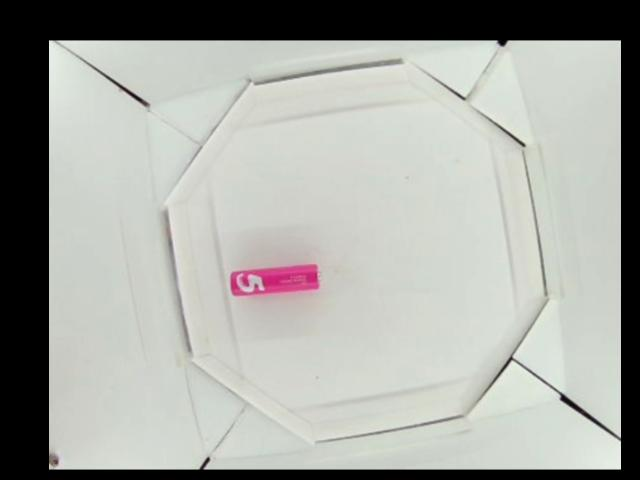Battery: (227, 265, 321, 295)
